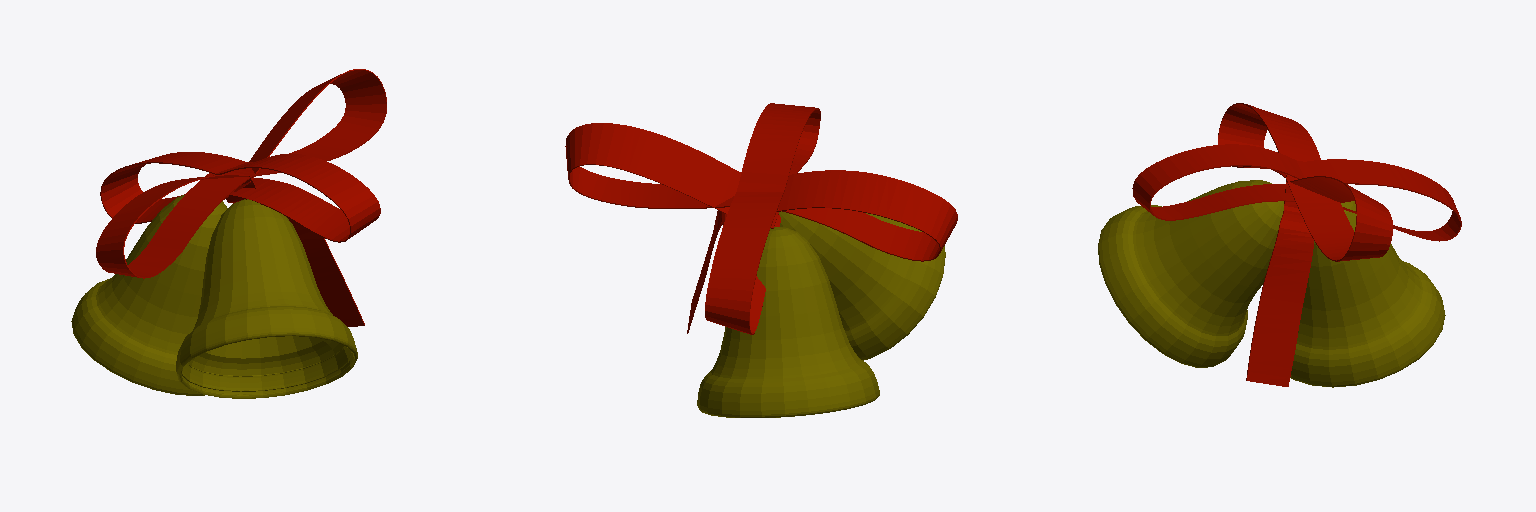
3 renders of one model, left to right at view 1: azimuth 30°, elevation 25°; view 2: azimuth 150°, elevation 25°; view 3: azimuth 270°, elevation 25°, orthographic.
Parts seen in each view (by area): view 1: Lenta, Bell_01, Bell; view 2: Lenta, Bell, Bell_01; view 3: Lenta, Bell_01, Bell.
Part boxes in pixels (x1,y1,x2,y2): Lenta: (96,69,386,326); Bell_01: (176,199,357,398); Bell: (71,195,227,395); Lenta: (565,103,957,334); Bell: (697,227,879,417); Bell_01: (779,211,945,360); Lenta: (1132,103,1461,386); Bell_01: (1098,180,1283,367); Bell: (1290,201,1445,387).
Bounding box in the file's own units: 4.19 × 3.08 × 3.98.
Materials: 3 (2 with a texture image).